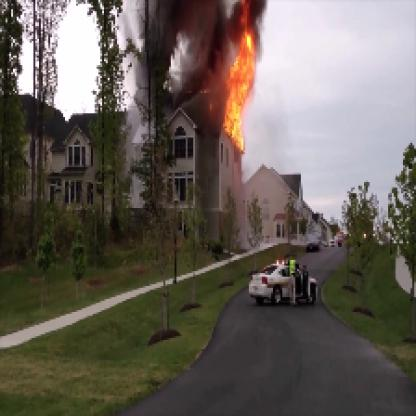Fire: (212, 2, 264, 158)
Smoke: (141, 2, 232, 102)
